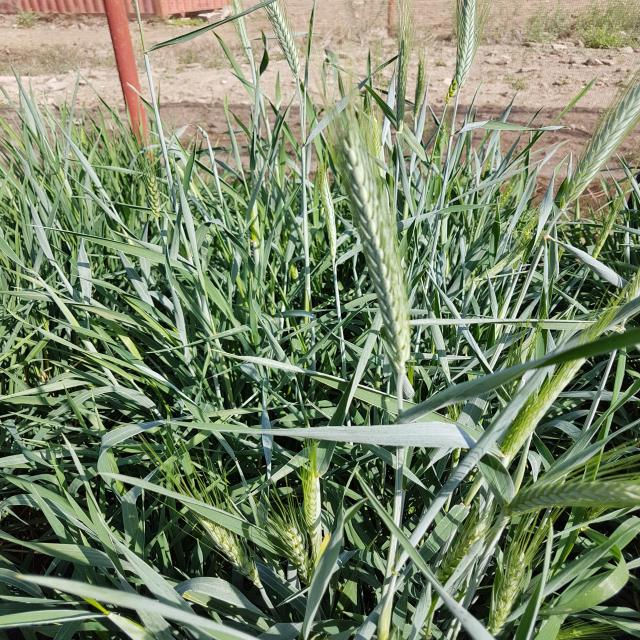healthy_wheat: (4, 111, 345, 640), (357, 128, 640, 640), (210, 6, 491, 116)
